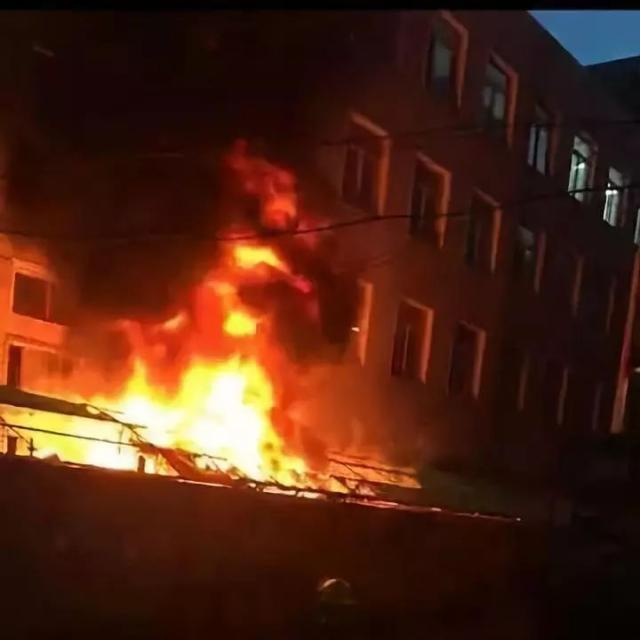Fire: (90, 356, 276, 478)
